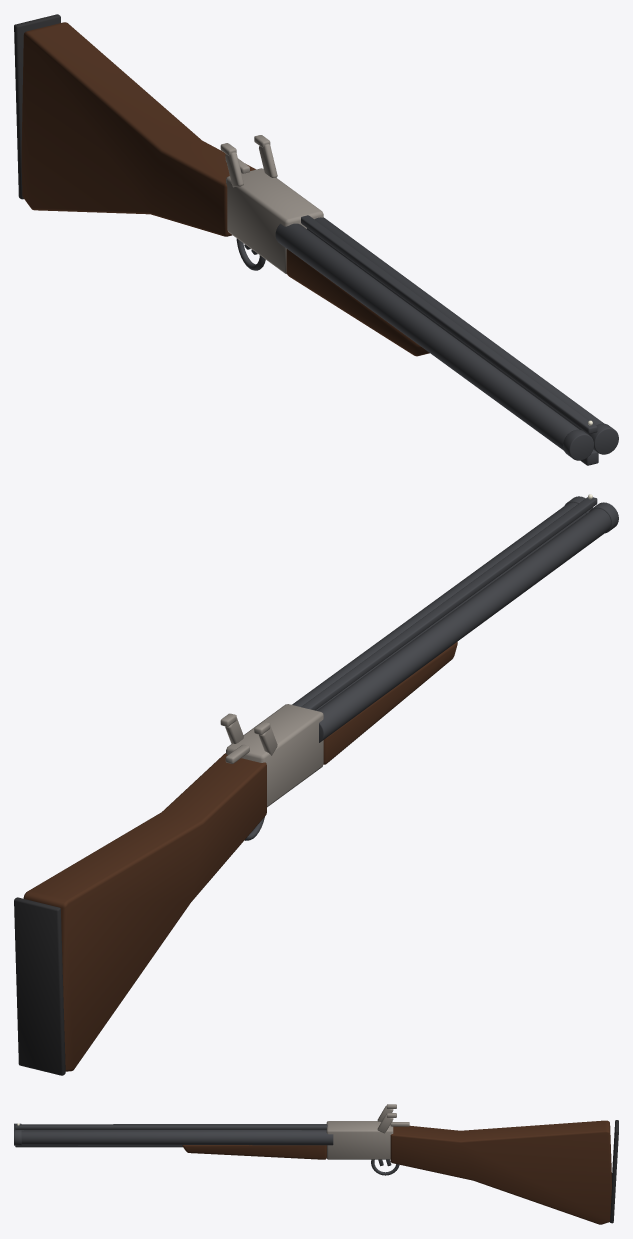
File: coach_shotgun.glb
The picture shows the model from 3 angles, top to bottom: view 1: azimuth 30°, elevation 25°; view 2: azimuth 150°, elevation 25°; view 3: azimuth 270°, elevation 25°; orthographic projection. The views are drawn at different scales.
Parts seen in each view (by area): view 1: Stock, Barrel, Action, TopRib, Barrel.001, ForeEnd, ButtPlate, Muzzle, Muzzle.001; view 2: Stock, Barrel, ButtPlate, Action, TopRib, Barrel.001, ForeEnd; view 3: Stock, Barrel.001, Action, ForeEnd, TopRib, Barrel, UnderRib, ButtPlate.
Boxes of the visible parts, x1,y1,x2,y2 form: Stock: [21, 22, 255, 236]; Barrel: [275, 223, 578, 450]; Action: [226, 168, 323, 273]; TopRib: [301, 215, 597, 433]; Barrel.001: [307, 217, 603, 434]; ForeEnd: [286, 249, 429, 356]; ButtPlate: [14, 14, 60, 199]; Muzzle: [563, 429, 593, 460]; Muzzle.001: [589, 423, 618, 454]; Stock: [23, 753, 266, 1071]; Barrel: [317, 508, 611, 742]; ButtPlate: [14, 897, 65, 1075]; Action: [226, 704, 323, 807]; TopRib: [301, 497, 597, 710]; Barrel.001: [292, 502, 585, 710]; ForeEnd: [323, 641, 457, 764]; Stock: [390, 1120, 611, 1224]; Barrel.001: [21, 1130, 333, 1145]; Action: [326, 1121, 393, 1159]; ForeEnd: [182, 1145, 326, 1159]; TopRib: [15, 1125, 327, 1129]; Barrel: [21, 1124, 326, 1130]; UnderRib: [15, 1145, 182, 1147]; ButtPlate: [610, 1120, 618, 1223].
Bounding box in the file's own units: 0.0488 × 0.1914 × 0.9511.
